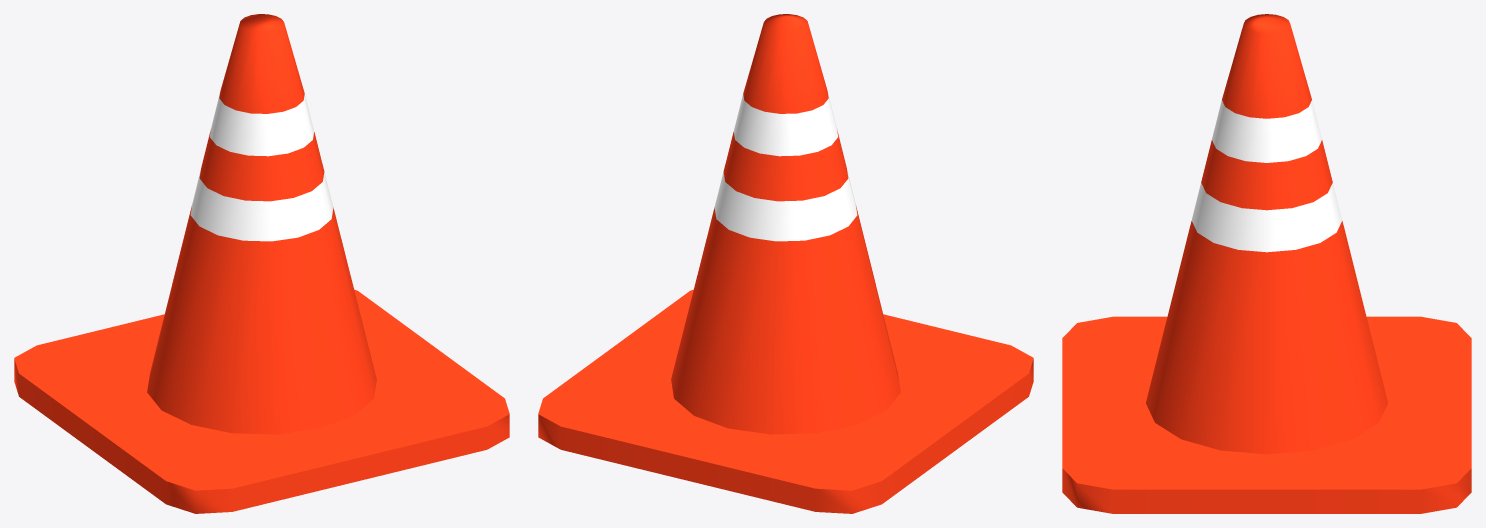
File: ConstructionConeOrange.glb
3 views of the same model, side by side, from view 1: azimuth 30°, elevation 25°; view 2: azimuth 150°, elevation 25°; view 3: azimuth 270°, elevation 25° (orthographic). The views are drawn at different scales.
Visible parts, largest first — view 1: ConstructionConeOrange; view 2: ConstructionConeOrange; view 3: ConstructionConeOrange.
Part boxes in pixels (bbox=[...]): ConstructionConeOrange: bbox=[14, 14, 509, 513]; ConstructionConeOrange: bbox=[538, 14, 1033, 513]; ConstructionConeOrange: bbox=[1062, 14, 1471, 513].
Bounding box in the file's own units: 0.5644 × 0.622 × 0.5644.
Materials: 1 (1 with a texture image).
